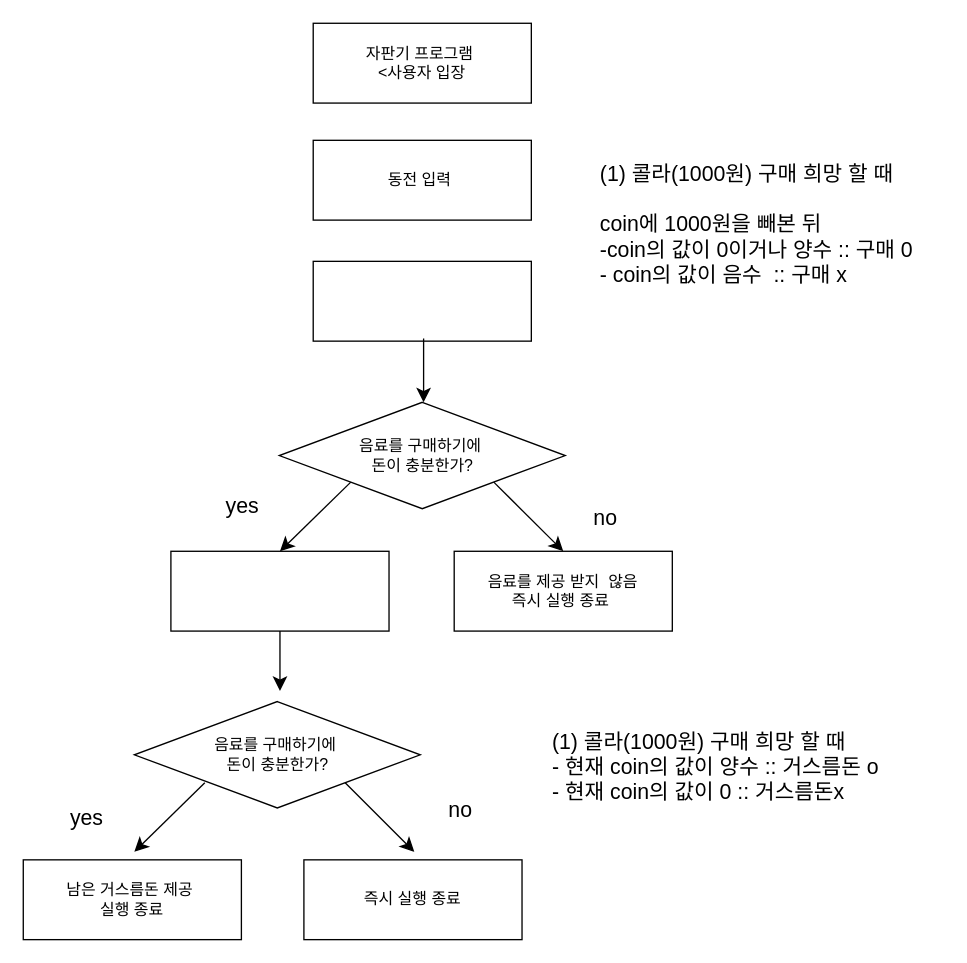
The diagram is 967 pixels wide and 963 high, and some of its shapes have lost their labels. Here are the shapes that lost their labels. From the top down, the centre of each, then its label:
At point 421,300: "음료수 선택지 입력".
At point 279,590: "음료 제공".
